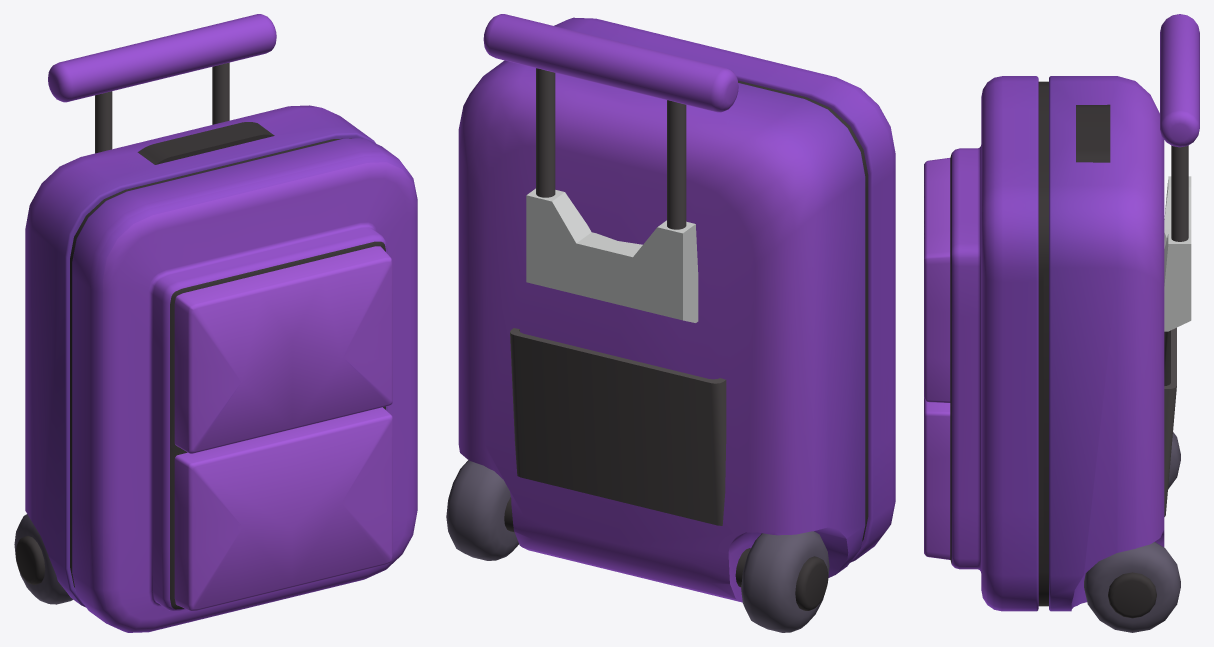
Rendered from Baggage_4_Purple.fbx.
The picture shows the model from 3 angles, left to right: view 1: azimuth 30°, elevation 25°; view 2: azimuth 150°, elevation 25°; view 3: azimuth 270°, elevation 25°; orthographic projection. The views are drawn at different scales.
Parts seen in each view (by area): view 1: Baggage_4_Purple; view 2: Baggage_4_Purple; view 3: Baggage_4_Purple.
Boxes of the visible parts, x1,y1,x2,y2 form: Baggage_4_Purple: [14, 14, 417, 632]; Baggage_4_Purple: [446, 14, 895, 632]; Baggage_4_Purple: [924, 14, 1199, 632].
Size of the model in its own units: 62.48 by 93.72 by 46.68.
